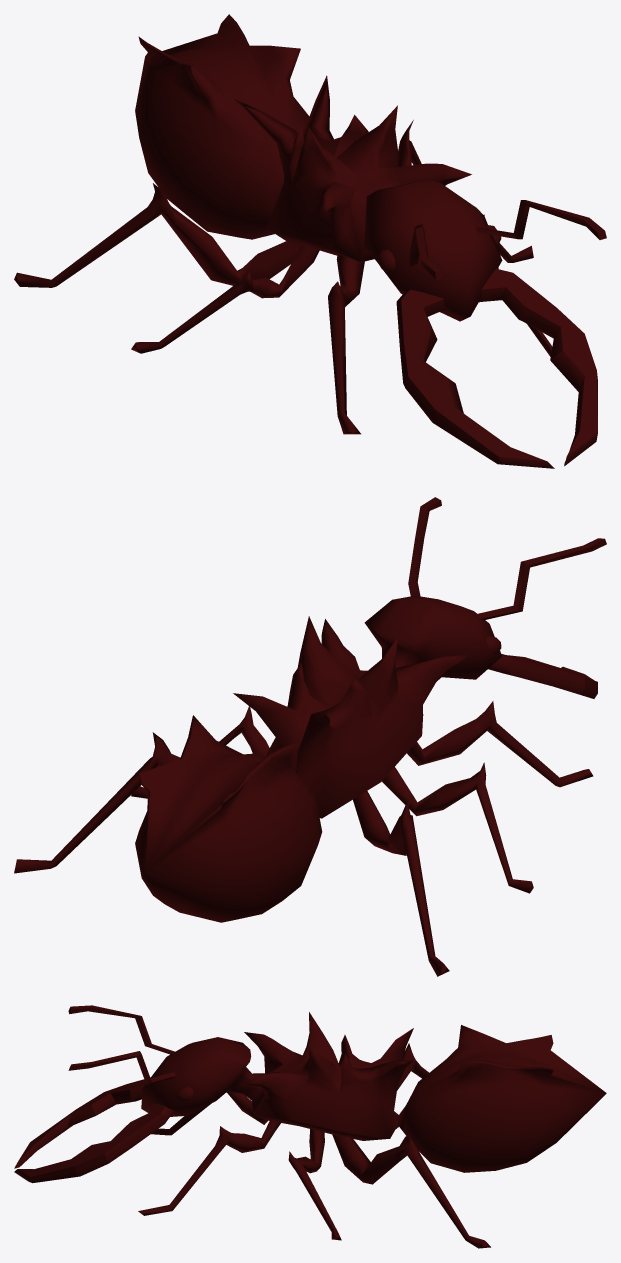
File: Thorn_Ant_prot.fbx
3 views of the same model, one above another, from view 1: azimuth 30°, elevation 25°; view 2: azimuth 150°, elevation 25°; view 3: azimuth 270°, elevation 25° (orthographic). The views are drawn at different scales.
Parts seen in each view (by area): view 1: group12; view 2: group12; view 3: group12.
Part boxes in pixels (x1,y1,x2,y2): group12: (14,14,606,468); group12: (14,497,606,976); group12: (14,1005,606,1248).
Size of the model in its own units: 159 by 72.62 by 266.
